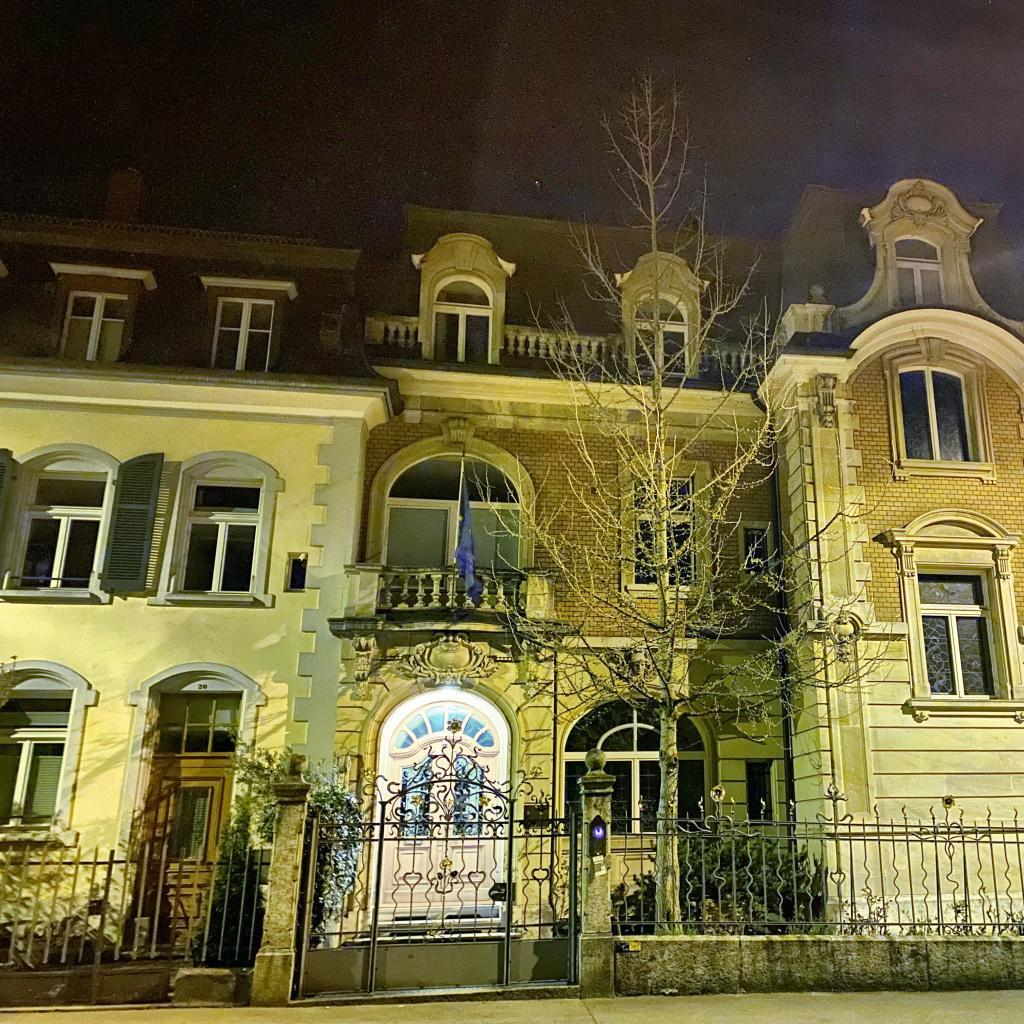facade: (0, 153, 1024, 958)
fence: (608, 784, 1024, 996), (294, 714, 581, 1003), (0, 840, 271, 1012)
street: (0, 990, 1024, 1024)
vegetation: (457, 57, 1024, 937), (190, 726, 365, 969)
window: (562, 697, 711, 835), (382, 497, 523, 595), (9, 471, 110, 588), (914, 568, 1002, 701), (175, 474, 265, 594), (898, 363, 974, 462), (0, 725, 68, 833), (632, 477, 696, 587), (57, 290, 129, 363), (432, 276, 490, 363), (208, 298, 275, 372), (633, 292, 686, 378), (894, 235, 945, 307), (745, 761, 774, 826)
